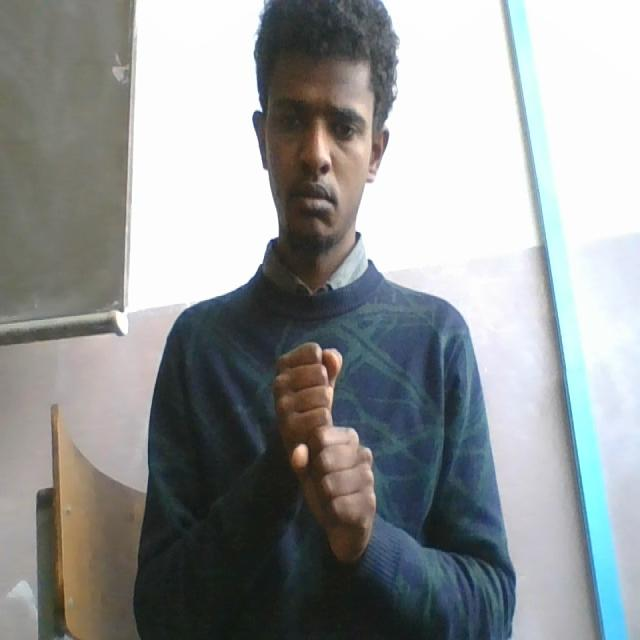meqebel: (270, 336, 381, 550)
